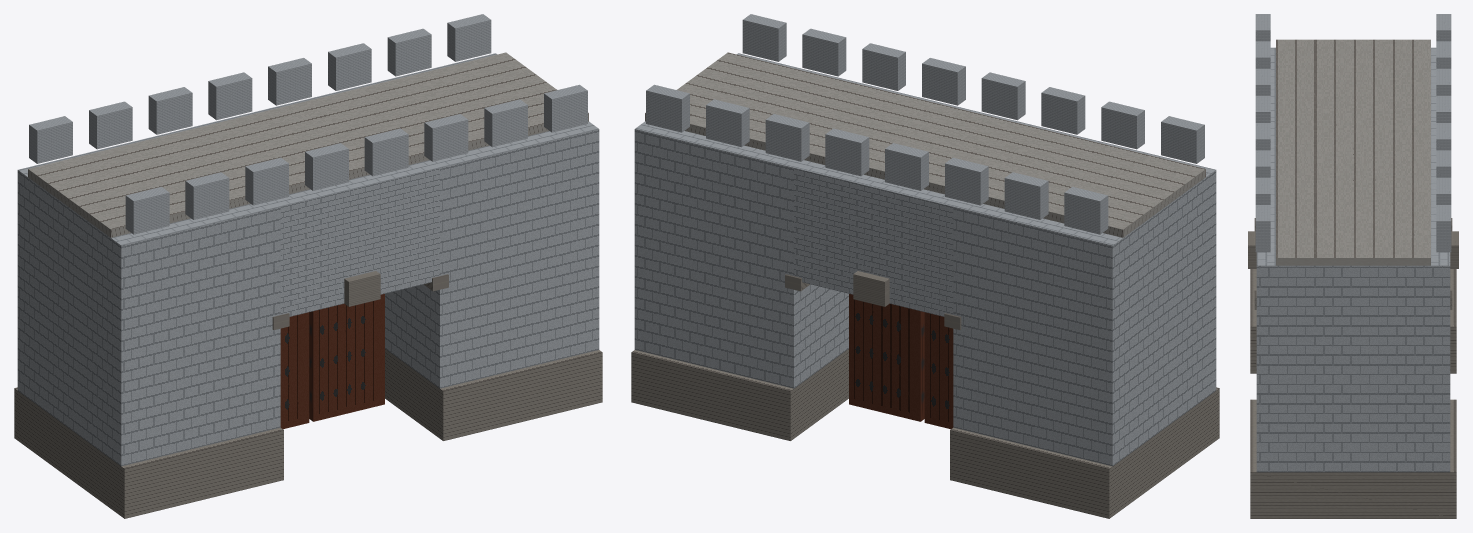
The model's file is great_wall_var3_gate_arch.glb.
The picture shows the model from 3 angles, left to right: view 1: azimuth 30°, elevation 25°; view 2: azimuth 150°, elevation 25°; view 3: azimuth 270°, elevation 25°; orthographic projection. The views are drawn at different scales.
Visible parts, largest first — view 1: Great_Wall_Var3_Gate_Arch; view 2: Great_Wall_Var3_Gate_Arch; view 3: Great_Wall_Var3_Gate_Arch.
Boxes of the visible parts, x1,y1,x2,y2 form: Great_Wall_Var3_Gate_Arch: (14,14,602,518); Great_Wall_Var3_Gate_Arch: (631,14,1219,518); Great_Wall_Var3_Gate_Arch: (1248,14,1458,518).
Bounding box in the file's own units: 12 × 7.5 × 4.9.
1 material, 1 textured.
